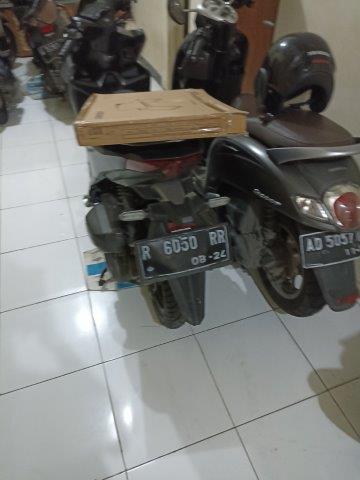kardus: (77, 89, 245, 146)
